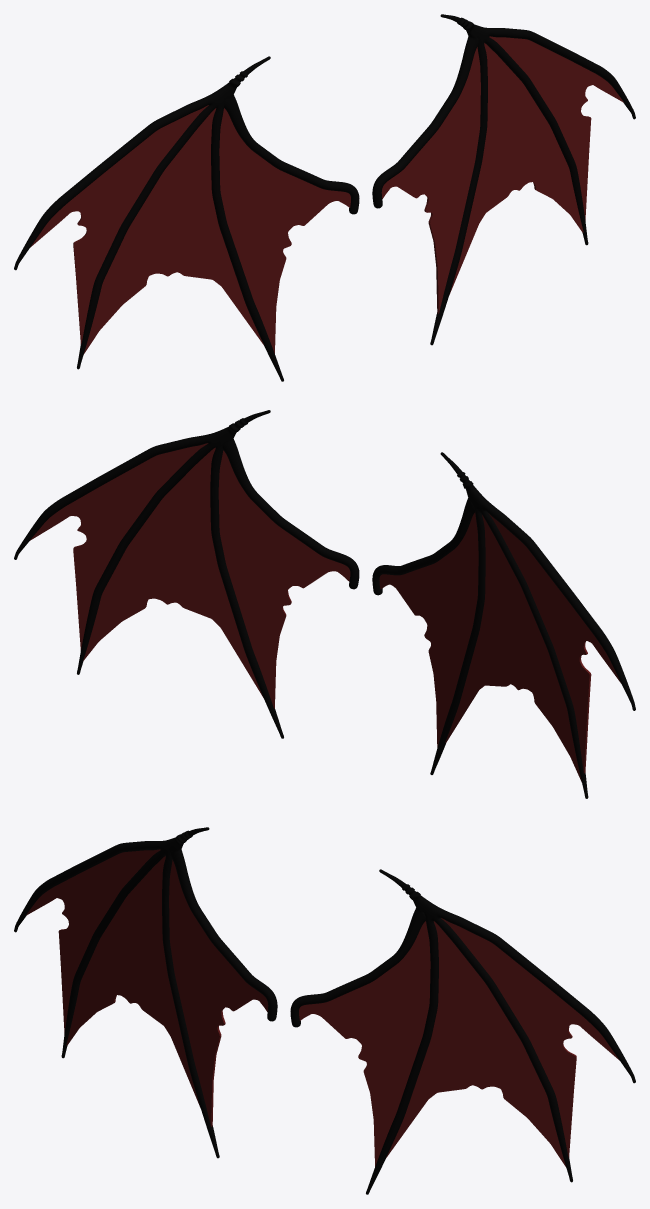
Rendered from DemonWingsTest221300888.glb.
3 views of the same model, one above another, from view 1: azimuth 30°, elevation 25°; view 2: azimuth 150°, elevation 25°; view 3: azimuth 330°, elevation 25° (orthographic).
Visible parts, largest first — view 1: Plane.001; view 2: Plane.001; view 3: Plane.001.
Boxes of the visible parts, x1=… form: Plane.001: x1=14, y1=14, x2=635, y2=381; Plane.001: x1=14, y1=410, x2=635, y2=798; Plane.001: x1=14, y1=827, x2=635, y2=1194.
Size of the model in its own units: 4.68 by 2.35 by 0.5755.
1 material, 1 textured.
